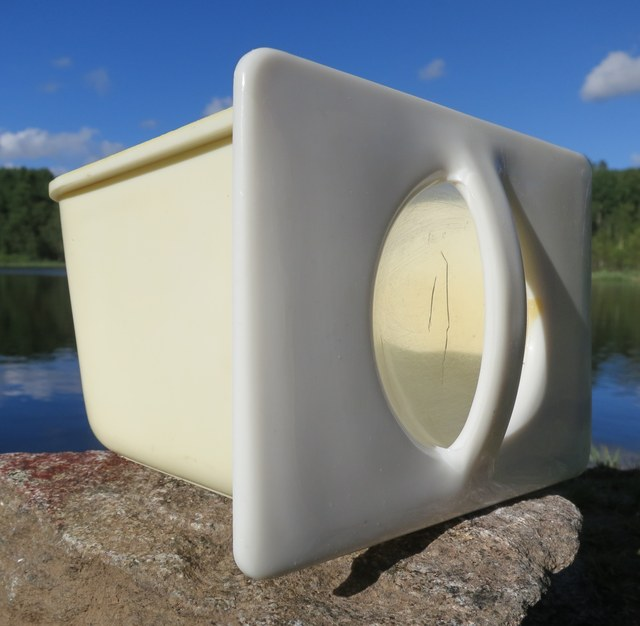Pigeon Steel Spatula: (32, 31, 608, 595)
